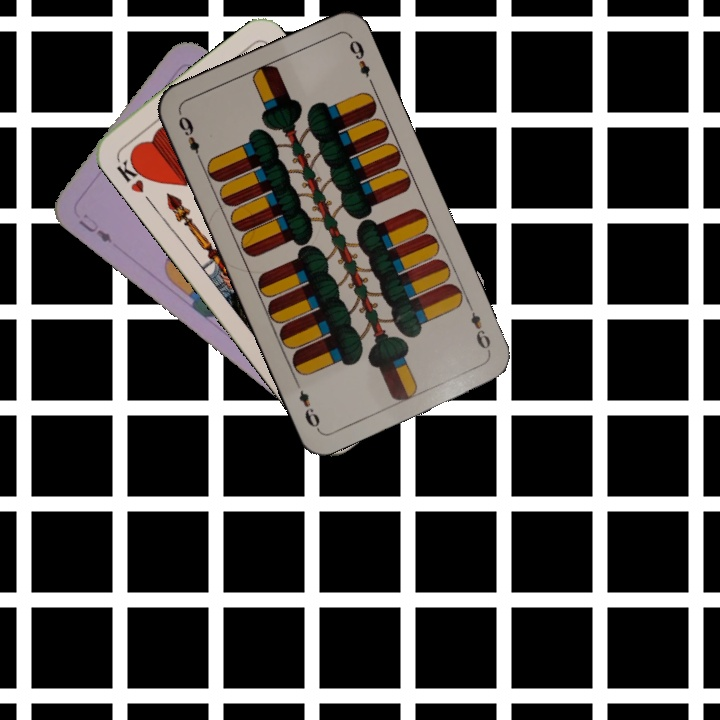E9: (464, 299, 494, 356), (174, 112, 205, 166)
EU: (74, 213, 115, 246)
HK: (112, 151, 152, 196)
